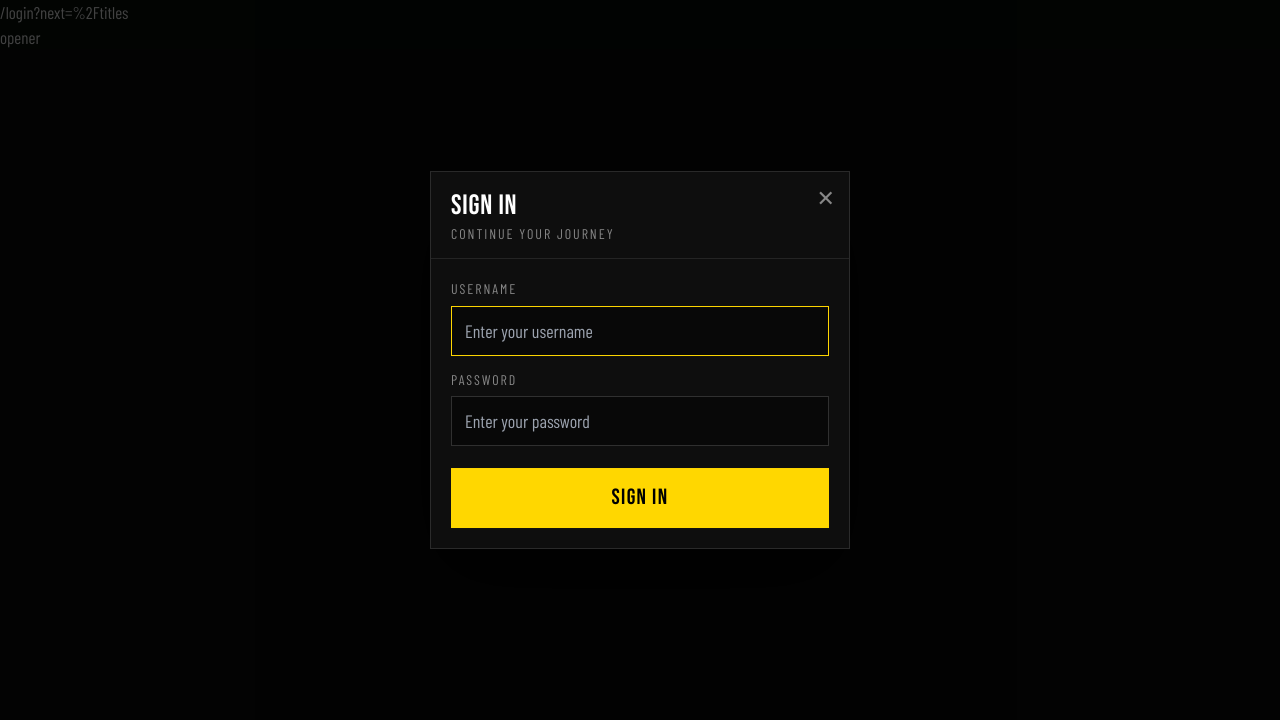
LoginDialog: formuläret (som den gamla inloggningssidan) › under pågående inloggning: fälten readOnly (inte disabled), knappen aria-disabled, fokus tappas inte, nytt submit ignoreras
The image size is (1280, 720).
Type "anna" into the field labelled "Username" at (640, 331), box [451,306,829,356]
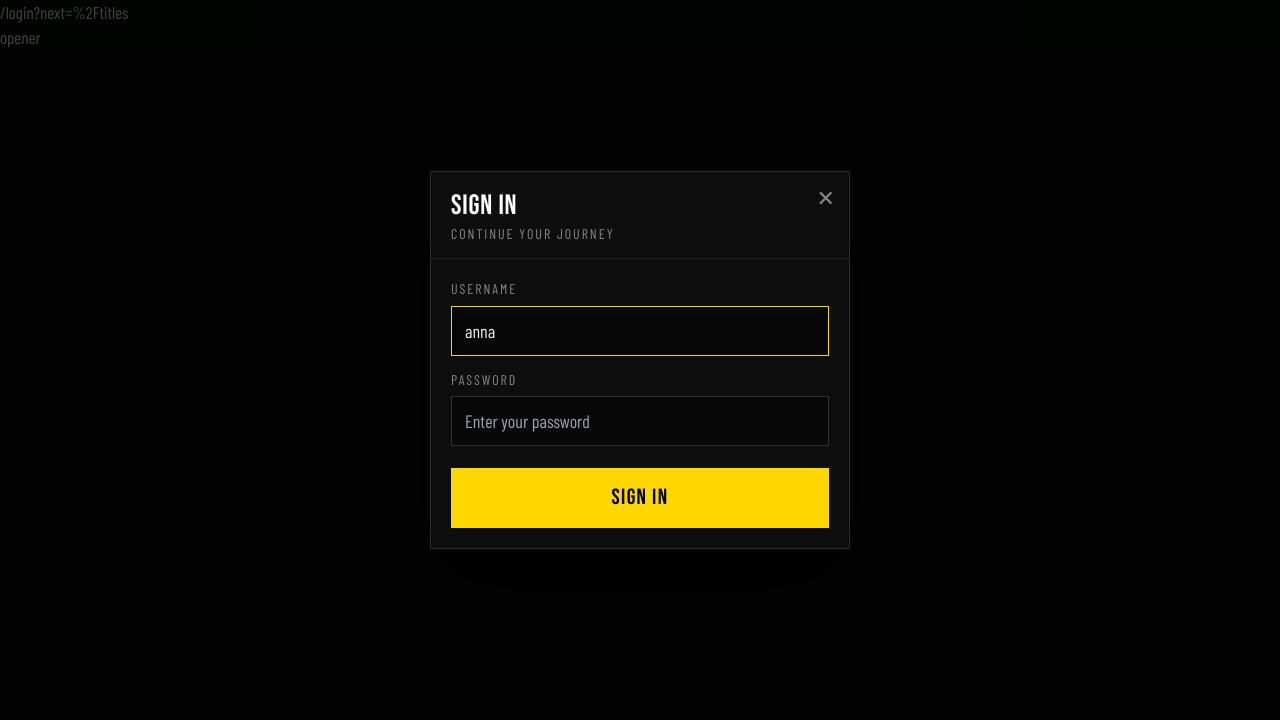
Type "hemligt" into the password field labelled "Password" at (640, 421), box [451,396,829,446]
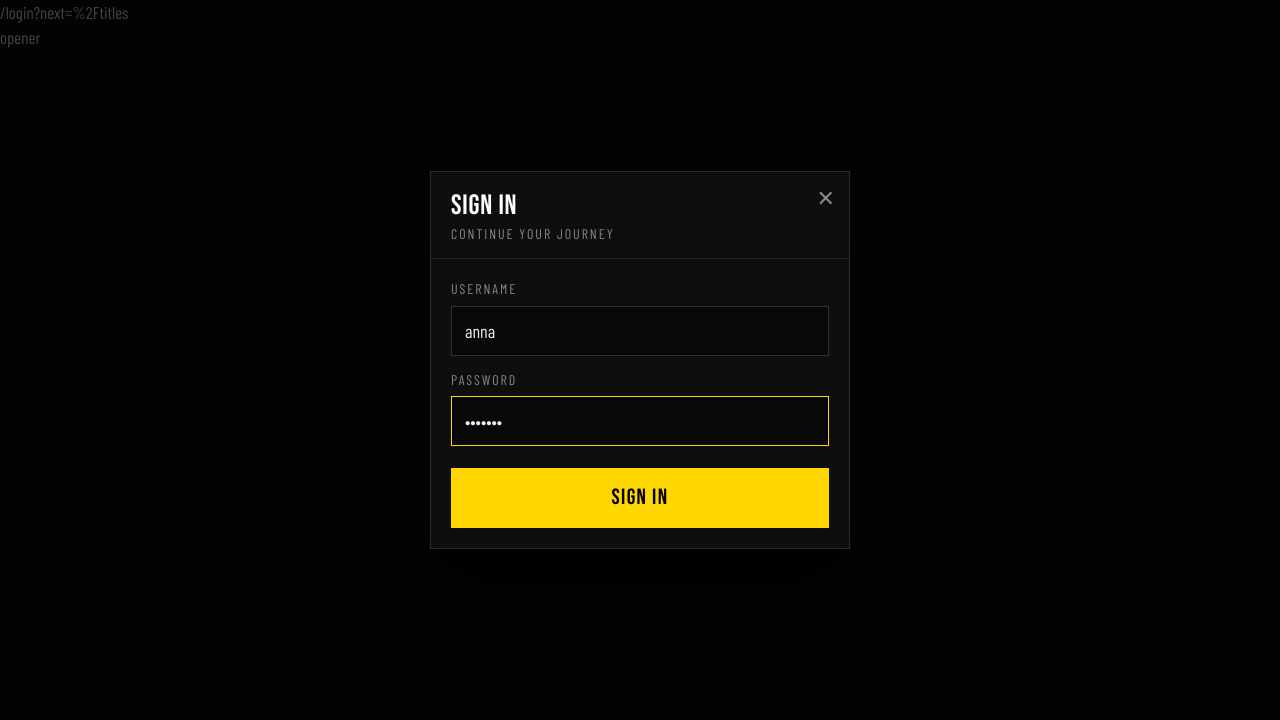
Submit the form labelled "Password", box [431,259,849,548]
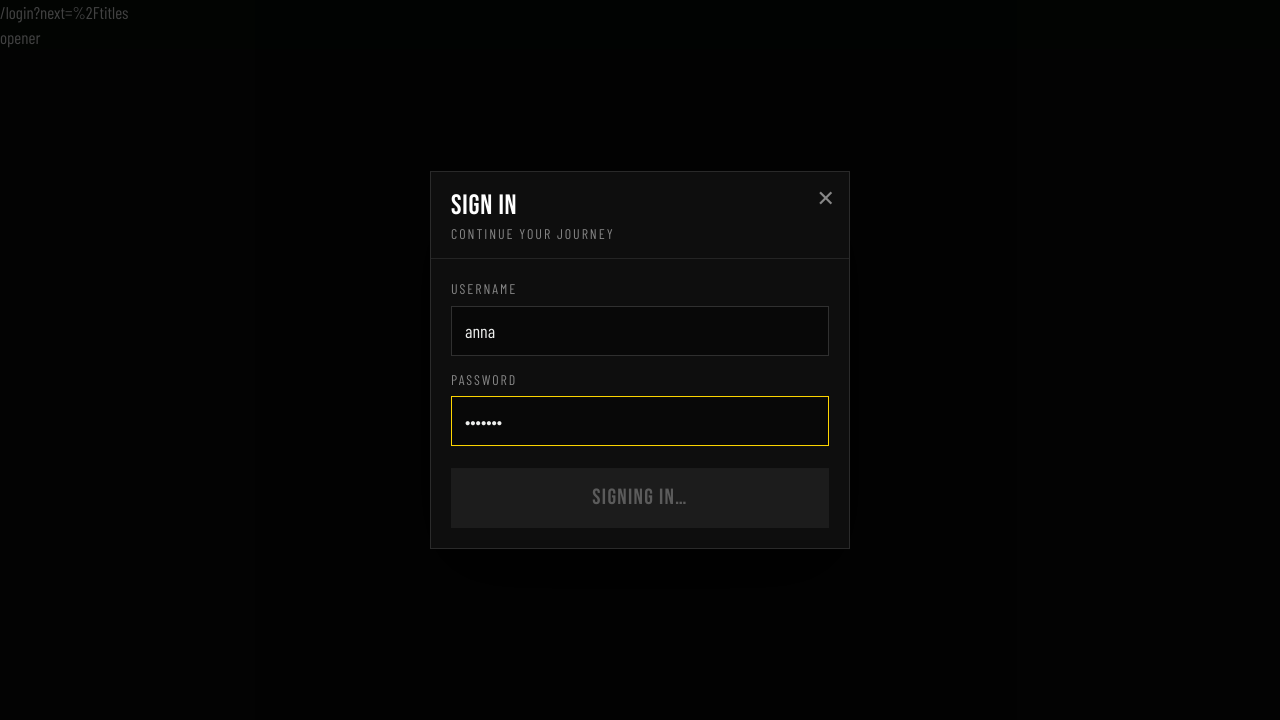
Expected: the password field labelled "Password" is enabled, [451,396,829,446]
Now the button "Signing in…" is enabled
Click the button "Signing in…" at (640, 498), box [451,468,829,528]
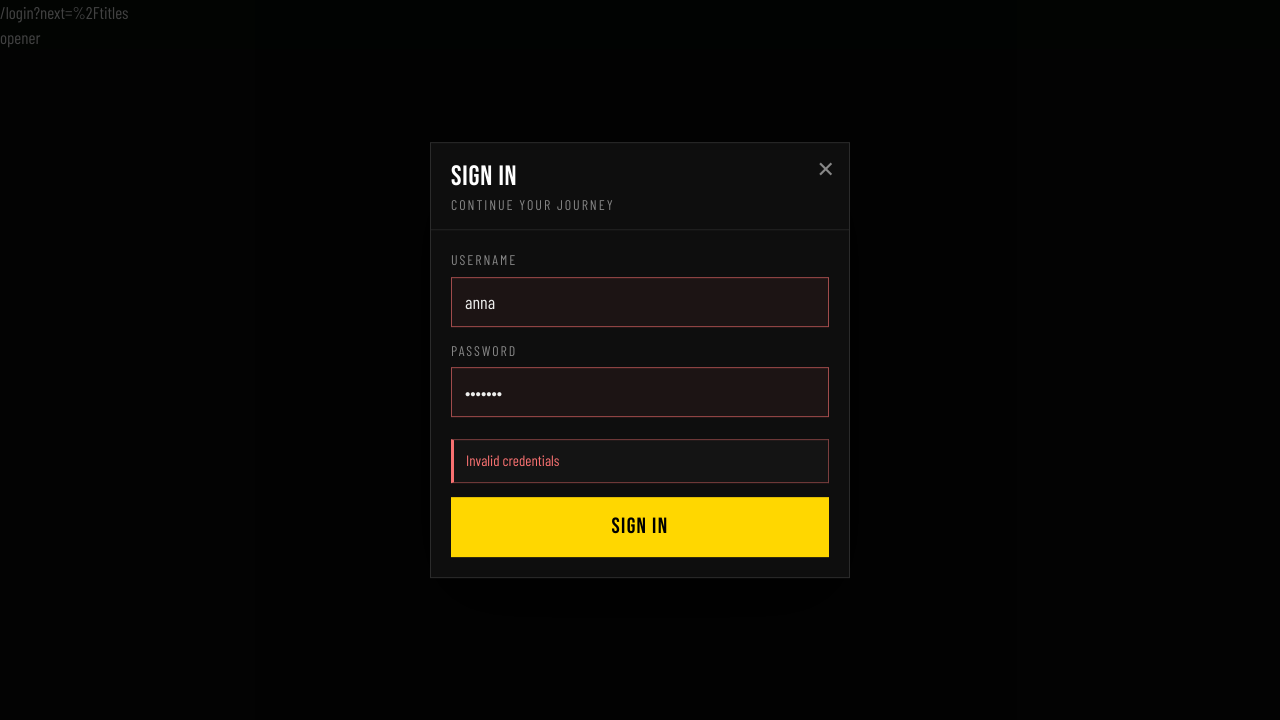
Now the message reads "Invalid credentials", box [466,451,559,469]
